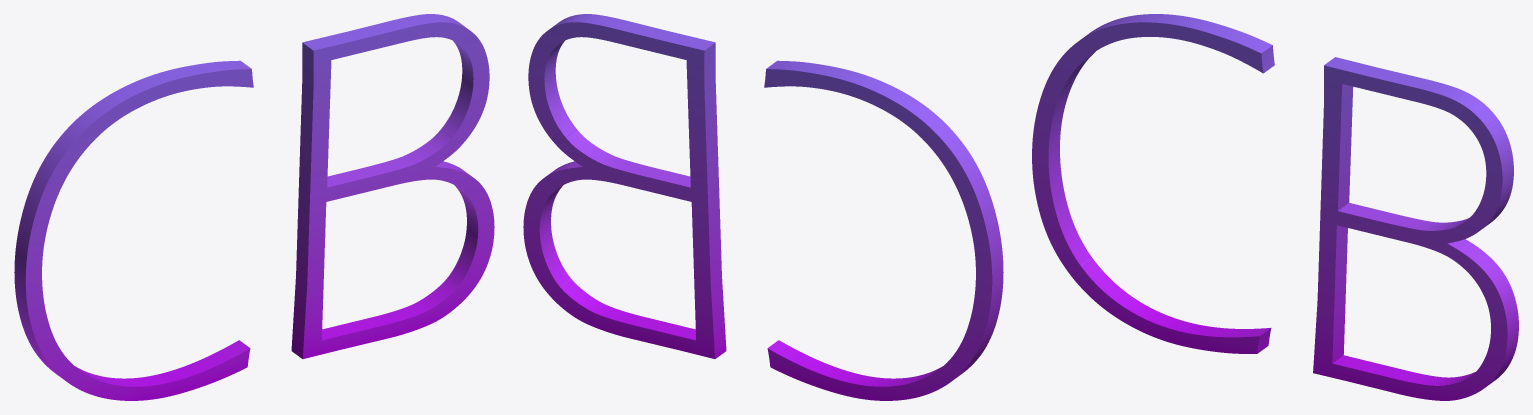
The picture shows the model from 3 angles, left to right: view 1: azimuth 30°, elevation 25°; view 2: azimuth 150°, elevation 25°; view 3: azimuth 330°, elevation 25°; orthographic projection.
Visible parts, largest first — view 1: Text; view 2: Text; view 3: Text.
Boxes of the visible parts, x1,y1,x2,y2 form: Text: [14, 14, 494, 400]; Text: [523, 14, 1003, 400]; Text: [1032, 14, 1518, 400].
Bounding box in the file's own units: 0.9611 × 0.6181 × 0.04.
1 material, 1 textured.
